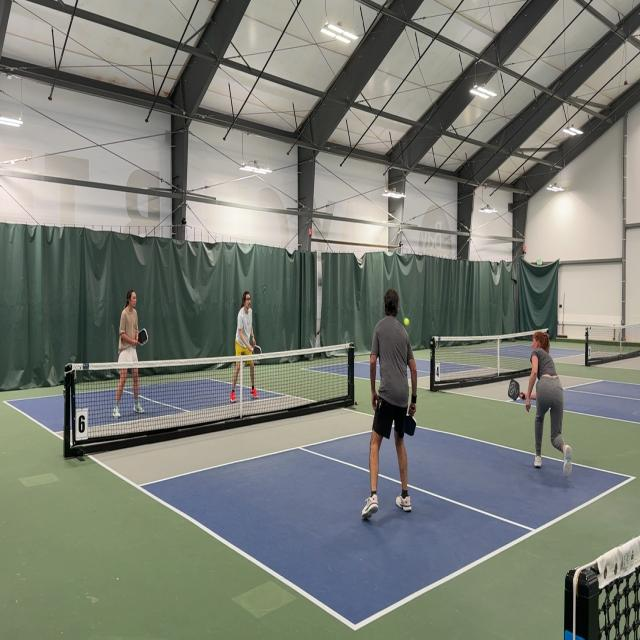ball: (403, 316, 410, 326)
